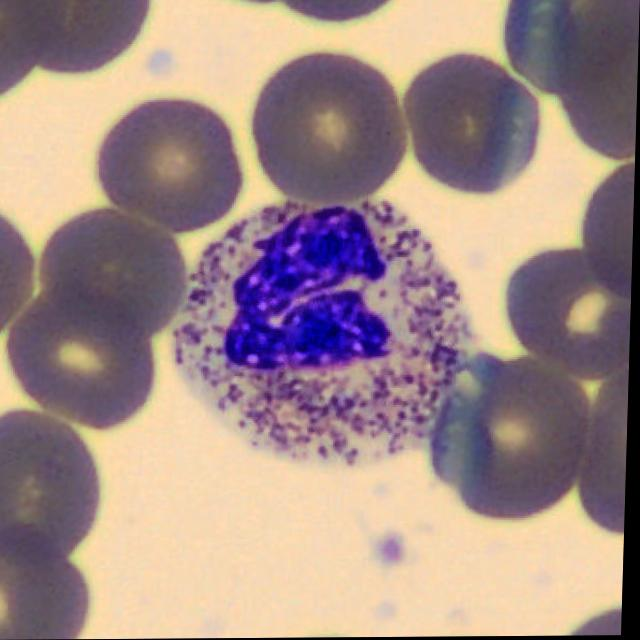Neutrofilo segmentado: (171, 200, 478, 468)
